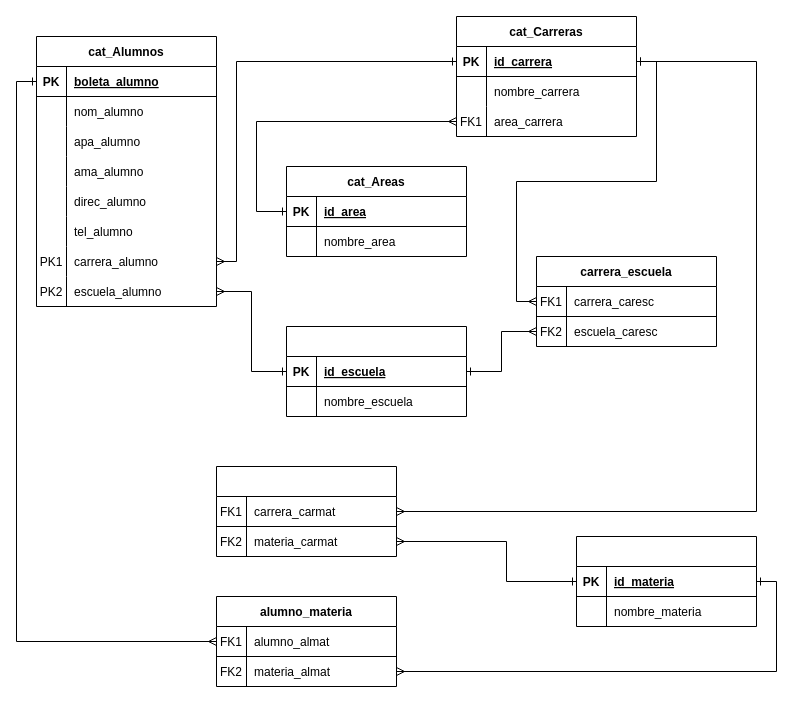
Image size: 793x703. Some labels were removed from this diagram. The box of each missing label's shape, as (x1, y1, x2, y2) in pixels:
carrera_materia: (216, 466, 396, 556)
cat_Escuelas: (286, 326, 466, 416)
cat_Materias: (576, 536, 756, 626)
